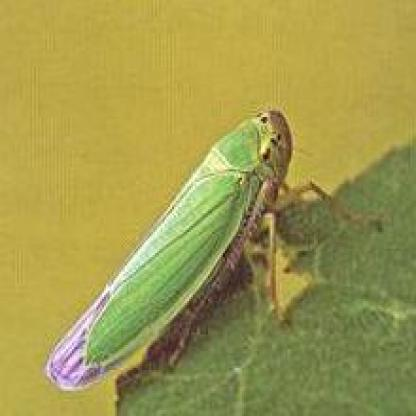Green-Leafhopper: (43, 100, 332, 380)
